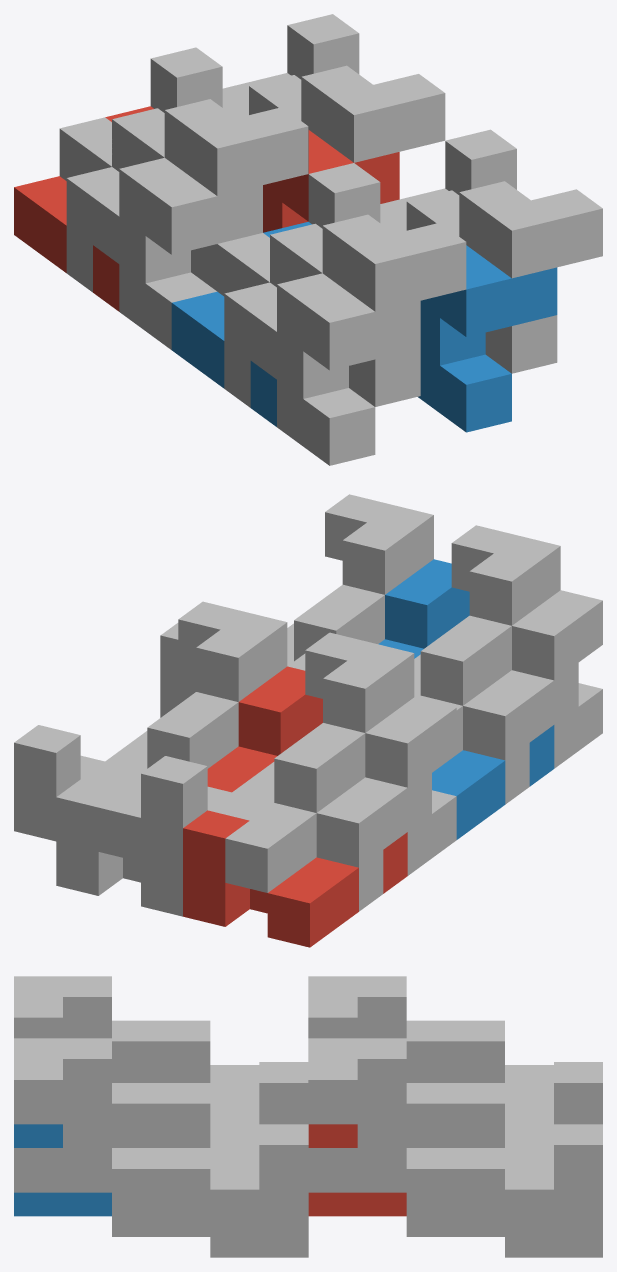
Rendered from tiling.obj.
3 views of the same model, one above another, from view 1: azimuth 30°, elevation 25°; view 2: azimuth 150°, elevation 25°; view 3: azimuth 270°, elevation 25° (orthographic). The views are drawn at different scales.
Visible parts, largest first — view 1: copy_2_domain_2, copy_2_domain_1, copy_2_domain_4, copy_2_domain_8, copy_2_domain_6, copy_2_domain_3, copy_2_domain_7, copy_1_domain_3, copy_1_domain_4, copy_1_domain_2, copy_1_domain_1, copy_2_domain_5 (+2 smaller); view 2: copy_2_domain_1, copy_2_domain_2, copy_2_domain_4, copy_2_domain_3, copy_1_domain_3, copy_2_domain_7, copy_1_domain_1, copy_2_domain_8, copy_1_domain_7, copy_1_domain_5, copy_2_domain_5, copy_2_domain_6 (+3 smaller); view 3: copy_2_domain_7, copy_2_domain_8, copy_1_domain_8, copy_1_domain_7, copy_2_domain_3, copy_2_domain_4, copy_1_domain_4, copy_1_domain_3, copy_1_domain_6, copy_1_domain_5, copy_2_domain_5, copy_2_domain_6.
Boxes of the visible parts, x1,y1,x2,y2 form: copy_2_domain_2: [224, 273, 420, 465]; copy_2_domain_1: [66, 157, 262, 349]; copy_2_domain_4: [270, 214, 466, 406]; copy_2_domain_8: [406, 181, 602, 373]; copy_2_domain_6: [418, 245, 557, 432]; copy_2_domain_3: [112, 99, 308, 290]; copy_2_domain_7: [249, 65, 445, 162]; copy_1_domain_3: [59, 47, 222, 180]; copy_1_domain_4: [217, 163, 380, 296]; copy_1_domain_2: [171, 221, 311, 426]; copy_1_domain_1: [14, 106, 153, 311]; copy_2_domain_5: [263, 130, 399, 232]; copy_2_domain_1: [316, 697, 456, 911]; copy_2_domain_2: [463, 590, 602, 804]; copy_2_domain_4: [420, 525, 560, 705]; copy_2_domain_3: [274, 632, 414, 812]; copy_1_domain_3: [141, 756, 316, 892]; copy_2_domain_7: [147, 601, 287, 768]; copy_1_domain_1: [183, 810, 407, 947]; copy_2_domain_8: [294, 494, 433, 661]; copy_1_domain_7: [14, 725, 147, 861]; copy_1_domain_5: [56, 779, 182, 916]; copy_2_domain_5: [207, 666, 322, 792]; copy_2_domain_6: [378, 559, 469, 658]; copy_2_domain_7: [308, 1038, 504, 1192]; copy_2_domain_8: [14, 1038, 210, 1192]; copy_1_domain_8: [112, 1124, 308, 1233]; copy_1_domain_7: [406, 1124, 602, 1233]; copy_2_domain_3: [308, 976, 504, 1082]; copy_2_domain_4: [14, 976, 210, 1082]; copy_1_domain_4: [210, 1062, 308, 1127]; copy_1_domain_3: [505, 1062, 602, 1127]; copy_1_domain_6: [112, 1213, 308, 1257]; copy_1_domain_5: [406, 1213, 602, 1257]; copy_2_domain_5: [308, 1124, 406, 1216]; copy_2_domain_6: [14, 1124, 111, 1216].
Bounding box in the file's own units: 7 × 4 × 12.
